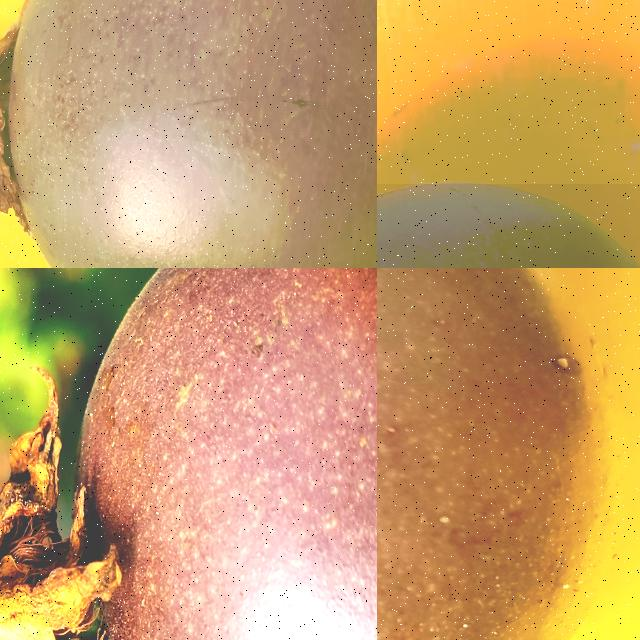Estado-5: (0, 268, 377, 640)
Estado-6: (377, 268, 611, 640), (377, 183, 639, 268)
